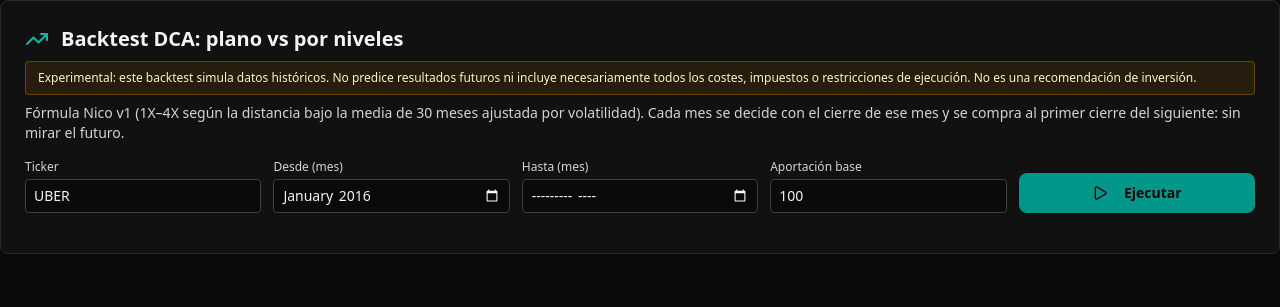
Test: DcaBacktestPanel rango de meses › mismo mes o rango corregido: ejecuta y limpia el aviso
The width and height of the screenshot is (1280, 307).
Replace the text in the field labelled "Desde (mes)" with "2022-06": {"x": 392, "y": 196} x1=273 y1=179 x2=510 y2=213
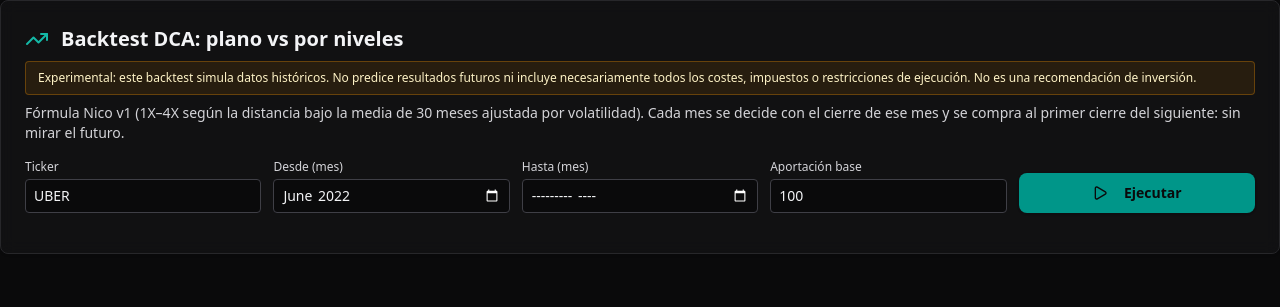
In the field labelled "Hasta (mes)": {"x": 640, "y": 196} x1=522 y1=179 x2=758 y2=213, type "2020-01"
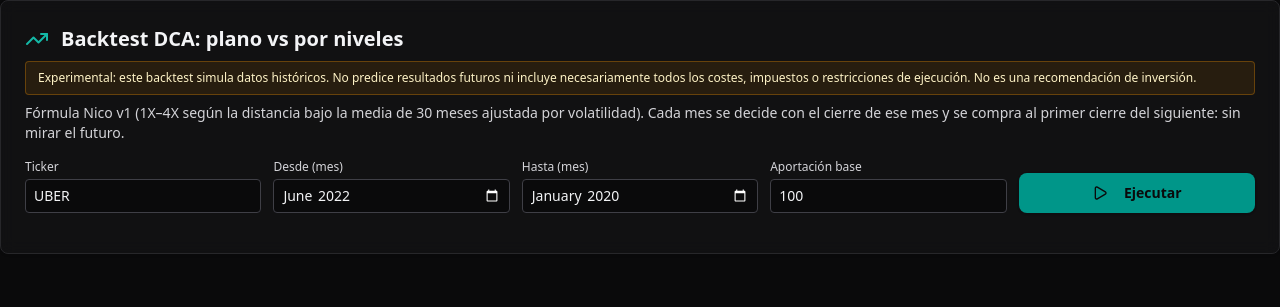
Submit the form "Ticker Desde (mes) Hasta (mes) Aportación base Ejecutar", box x1=25 y1=159 x2=1255 y2=213
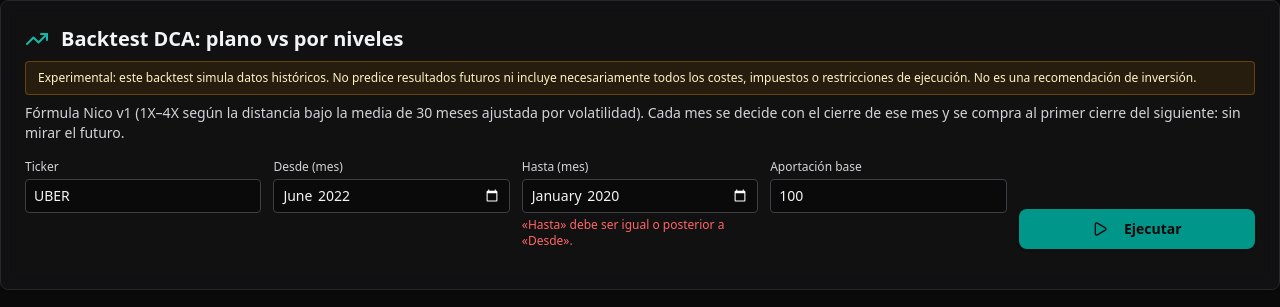
Result: the message "«Hasta» debe ser igual o posterior a «Desde»." is shown at x1=522 y1=217 x2=758 y2=249
Replace the text in the field labelled "Hasta (mes) «Hasta» debe ser igual o posterior a «Desde»." with "2022-06": {"x": 640, "y": 196} x1=522 y1=179 x2=758 y2=213
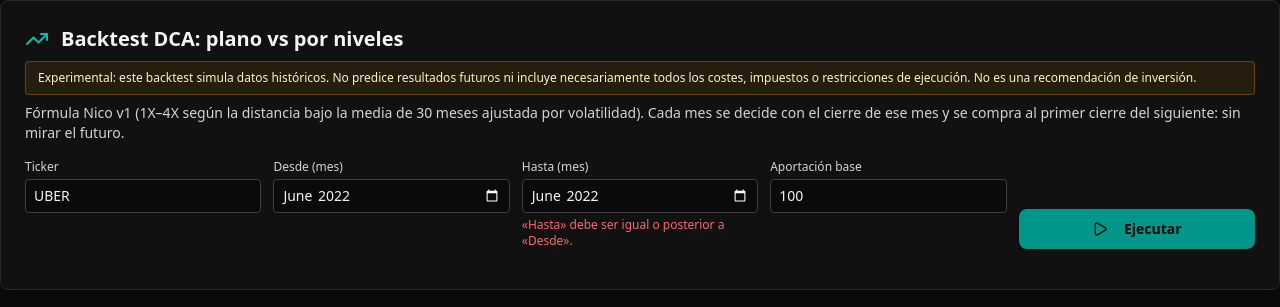
Submit the form named "ejecutar", box x1=25 y1=159 x2=1255 y2=249
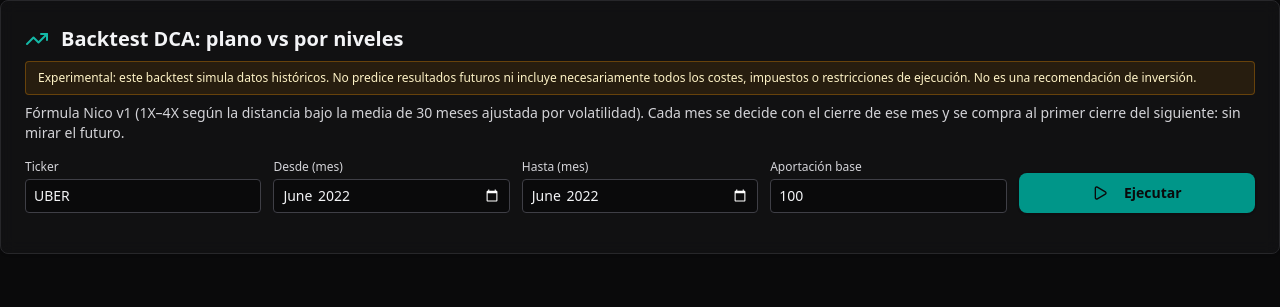
Result: the message "«Hasta» debe ser igual o posterior a «Desde»." is gone
